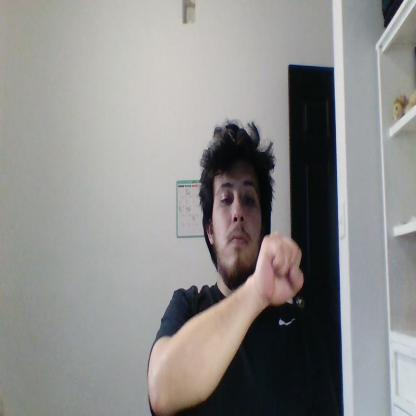S: (257, 231, 303, 304)
